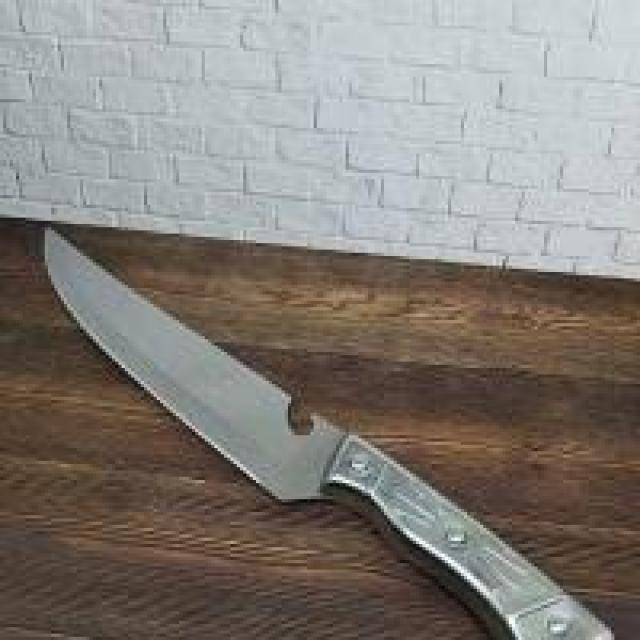Knife: (40, 173, 612, 623)
